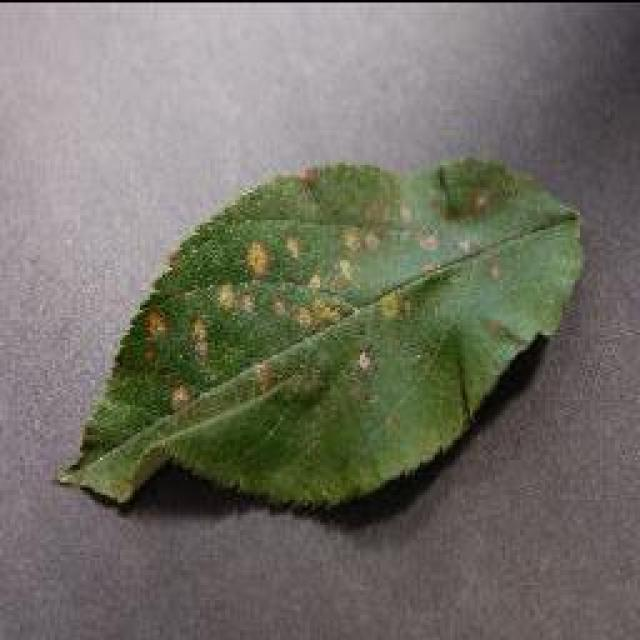apple cedar apple rust: (55, 152, 585, 518)
